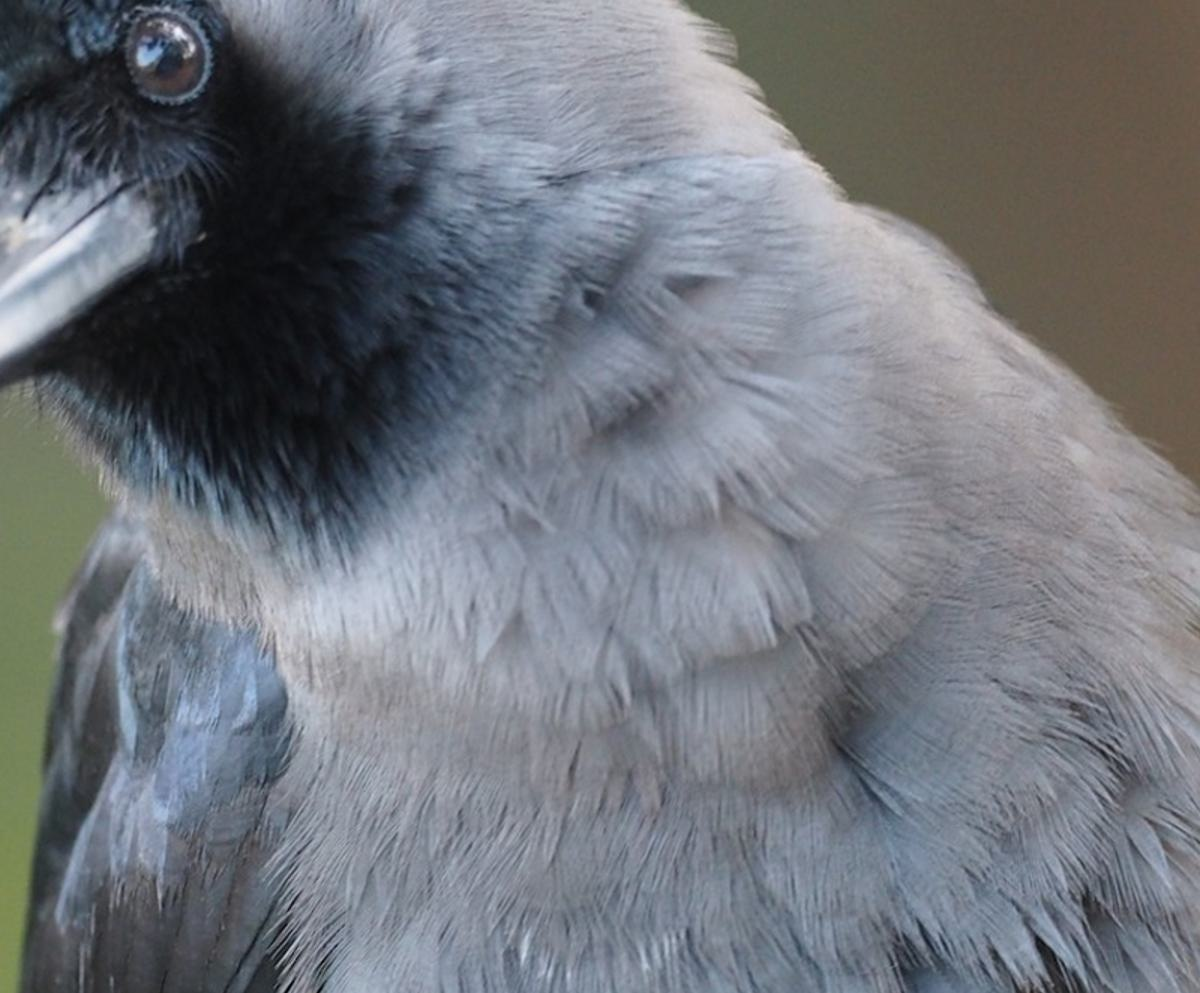crow: (1, 3, 1080, 993)
